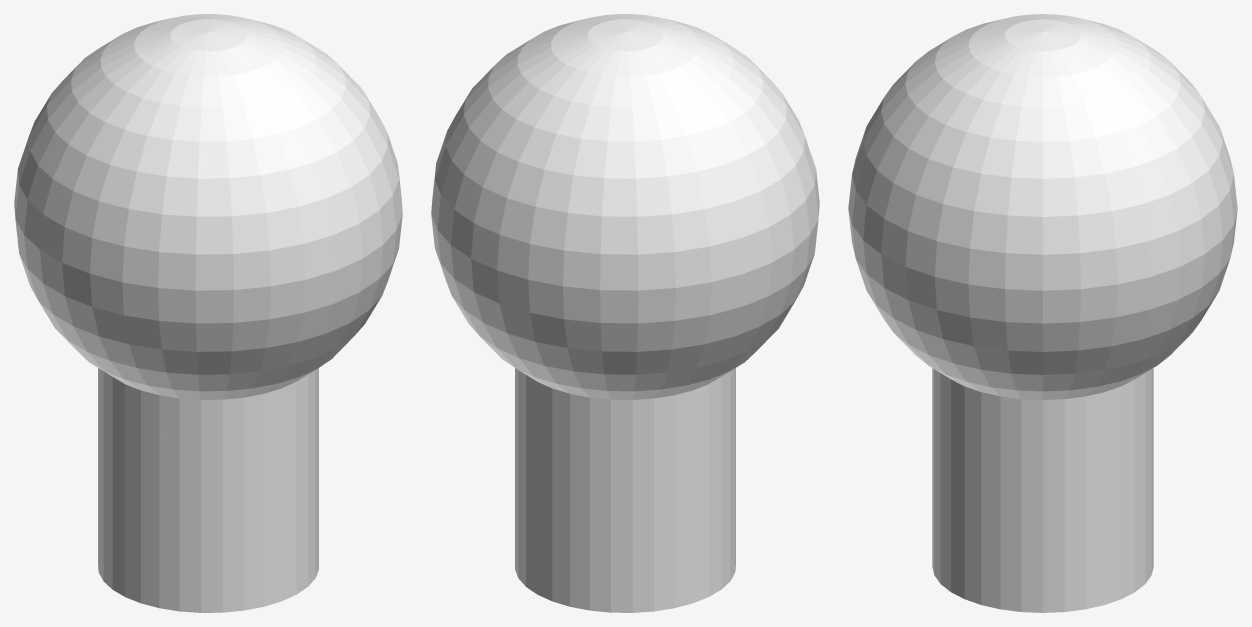
File: Lightbulb.obj
3 views of the same model, side by side, from view 1: azimuth 30°, elevation 25°; view 2: azimuth 150°, elevation 25°; view 3: azimuth 270°, elevation 25° (orthographic).
Visible parts, largest first — view 1: Sphere; view 2: Sphere; view 3: Sphere.
Part boxes in pixels (<box>): Sphere: <box>14,14,402,612</box>; Sphere: <box>431,14,819,612</box>; Sphere: <box>848,14,1237,612</box>.
Size of the model in its own units: 0.4865 by 0.7363 by 0.4865.
Materials: 1 (1 with a texture image).
